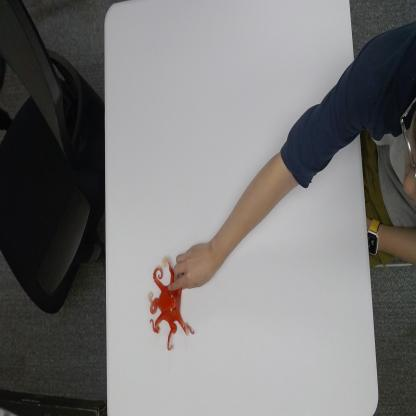Arm: (226, 51, 354, 259)
Hand: (167, 238, 227, 293)
Octopus: (146, 255, 196, 353)
